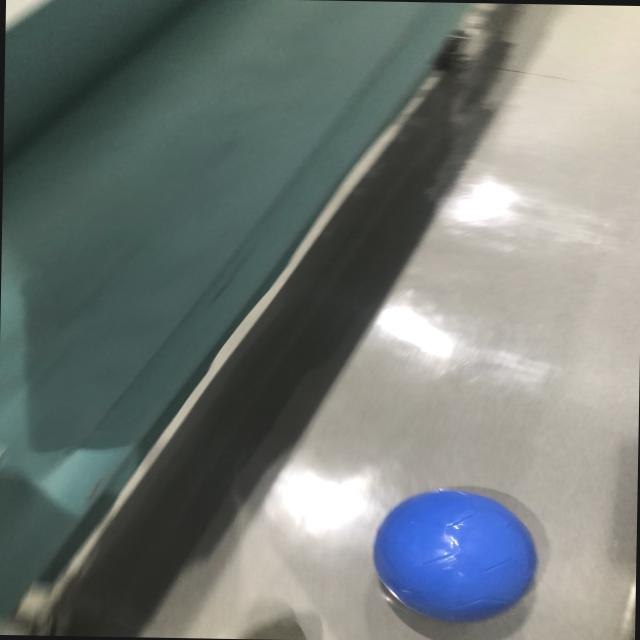blue_ball: (370, 487, 545, 618)
